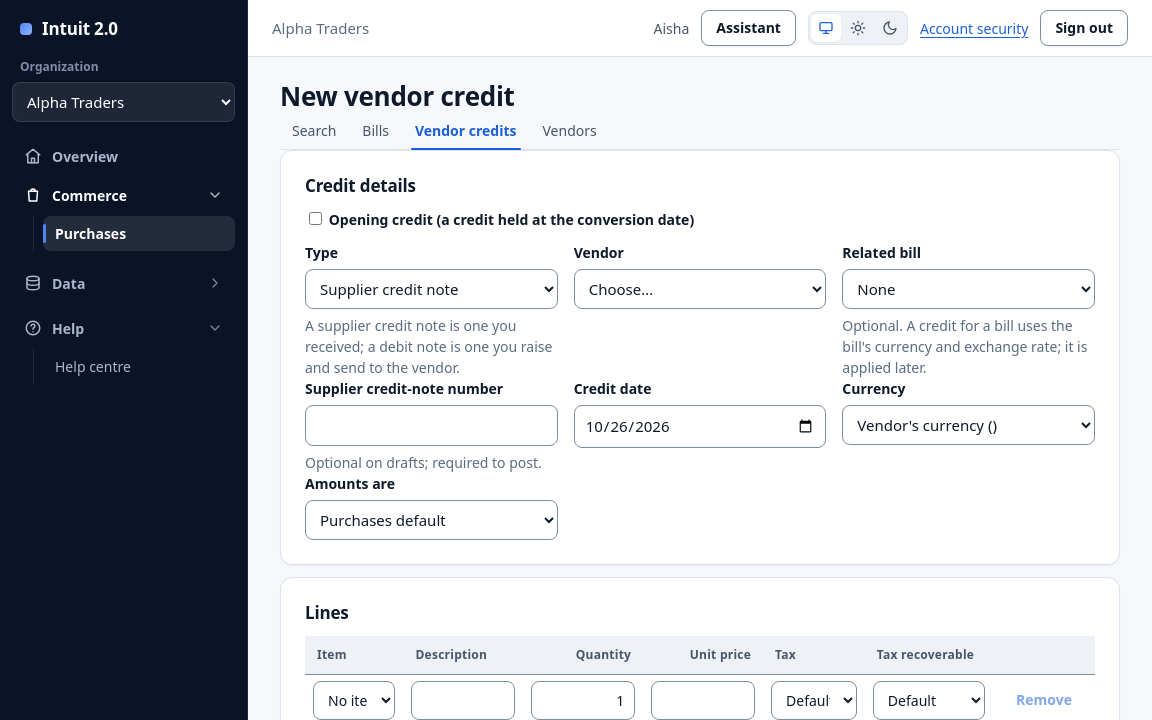
vendor credit editor › creates a debit note with the origin; amounts come from the server
This screenshot has width=1152, height=720.
Step 1. Select "Debit note" in the dropdown labelled "Type" → point(431, 289), box [305, 269, 558, 309]
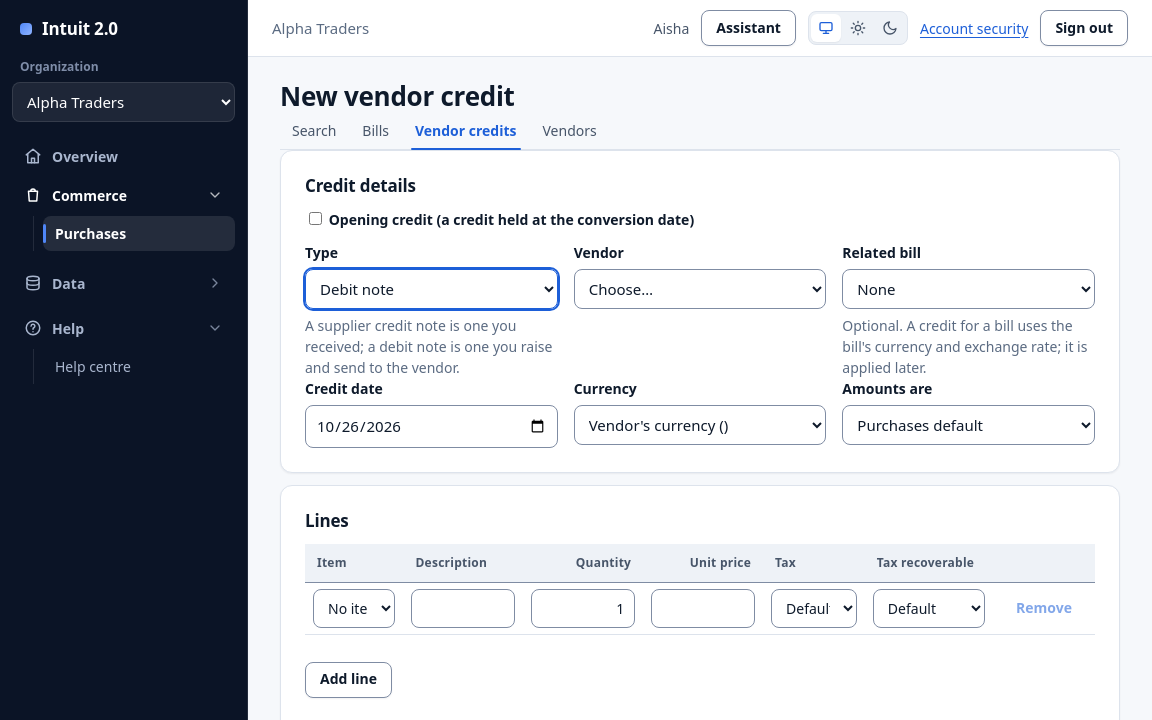
Expected: the label labelled "Supplier credit-note number" is gone
Step 2. Select "Island Supplies" in the dropdown labelled "Vendor" → point(700, 289), box [574, 269, 826, 309]
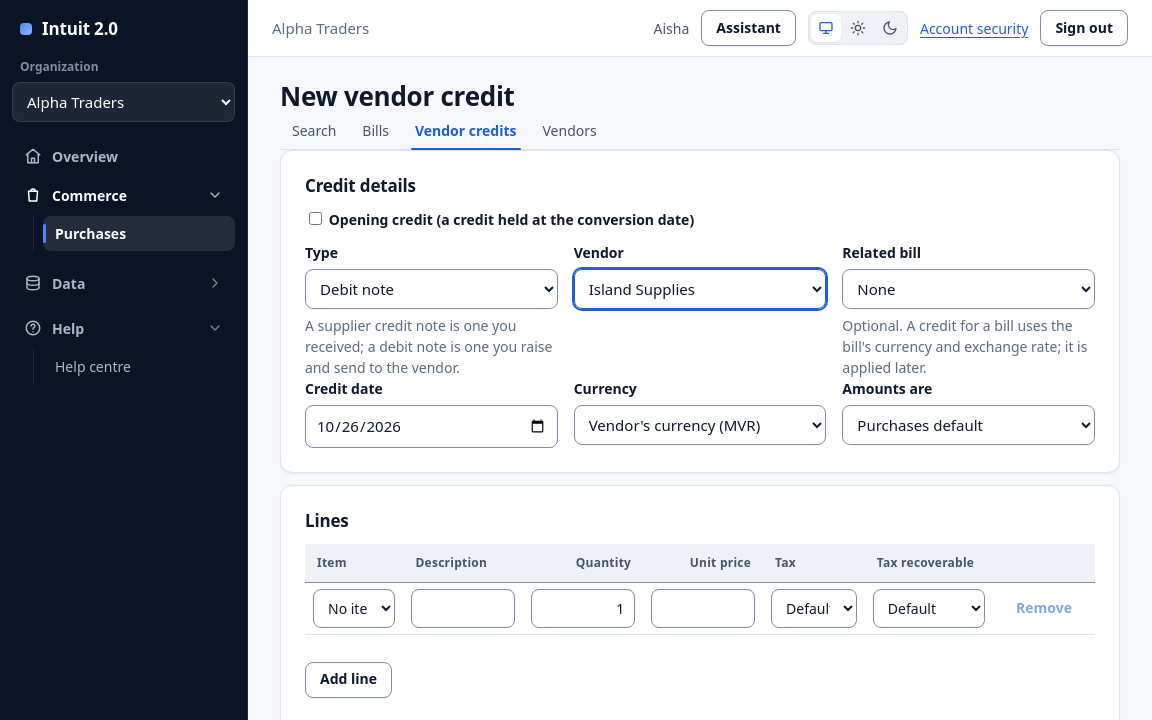
Step 3. Type "Short delivery" into the field named "Line 1 description" → point(463, 608), box [412, 589, 515, 628]
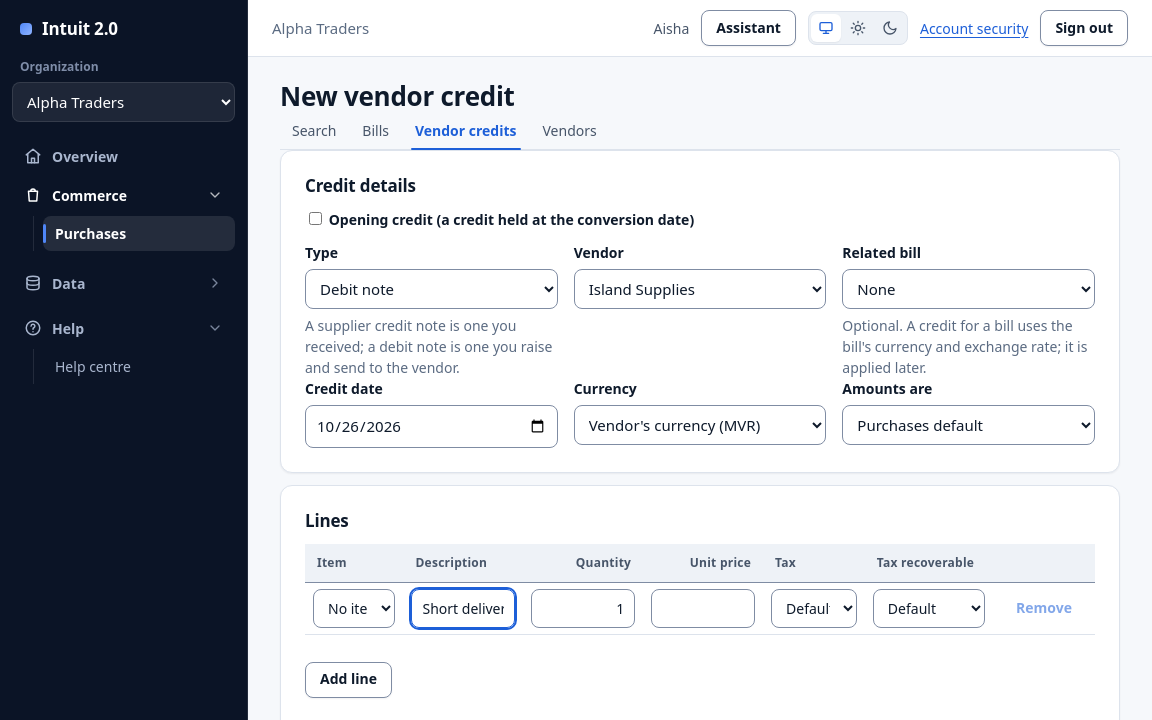
Step 4. Type "40" into the field named "Line 1 unit price" → point(703, 608), box [651, 589, 755, 628]
(page scrolled)
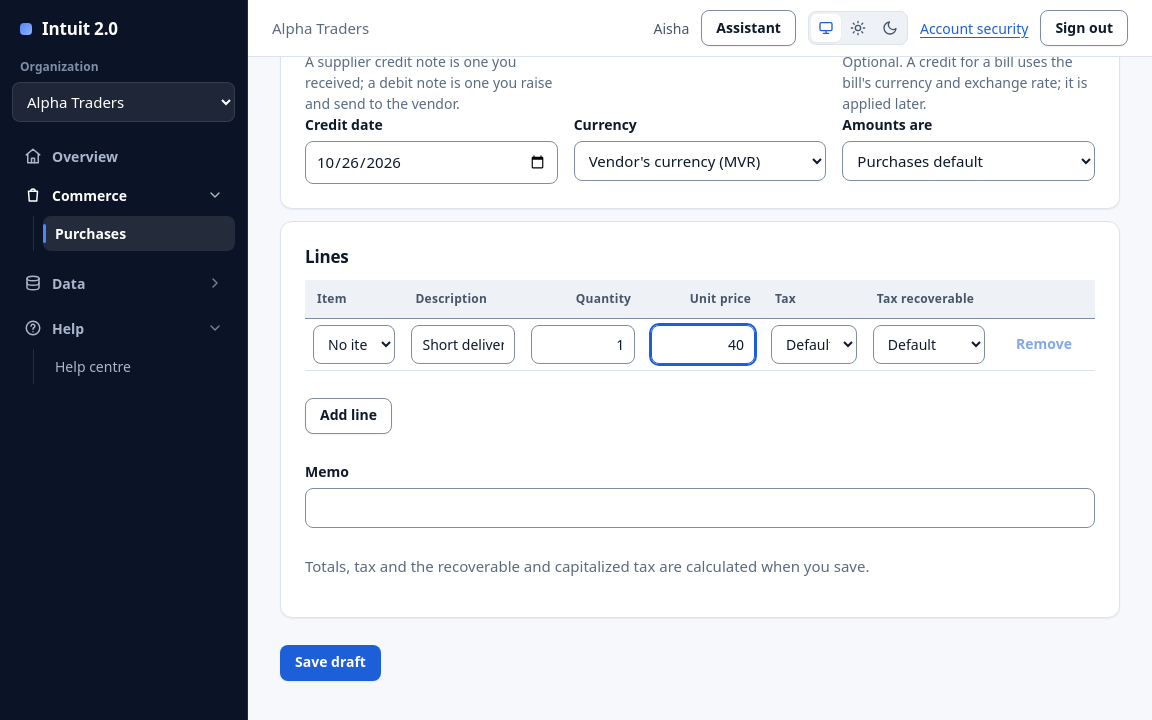
Step 5. Click the button "Save draft" → point(330, 663), box [280, 645, 381, 681]
(page scrolled)
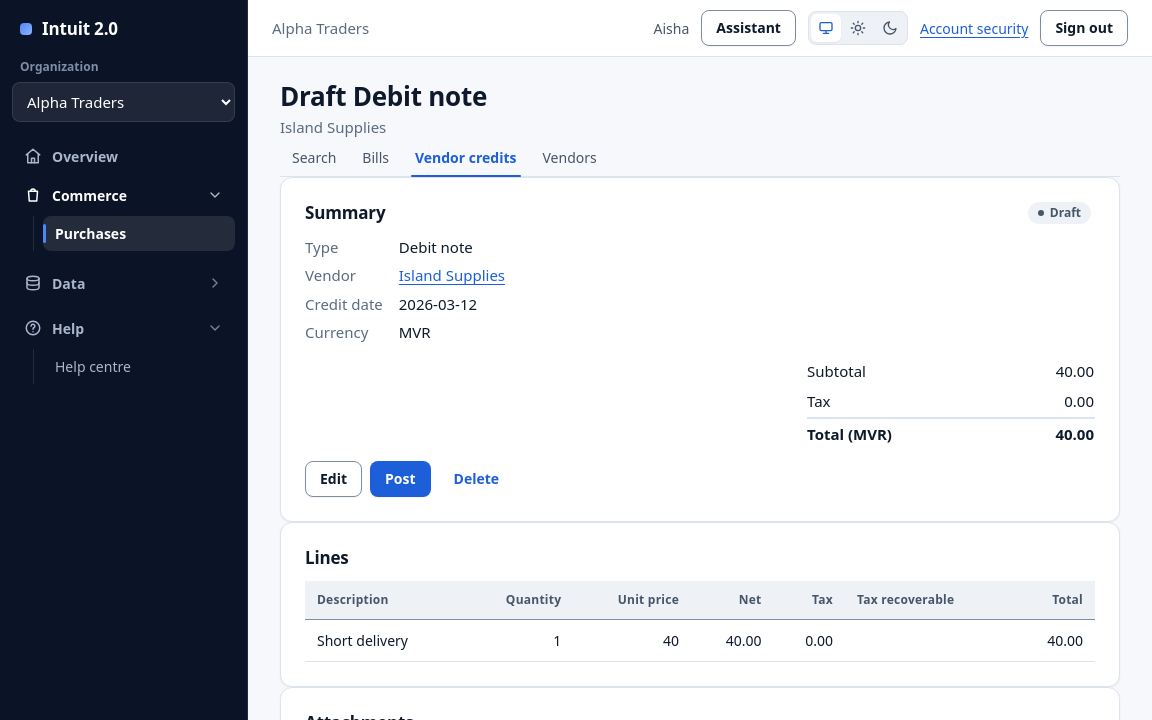
Expected: the heading "Draft Debit note" is shown, [280, 78, 487, 114]
